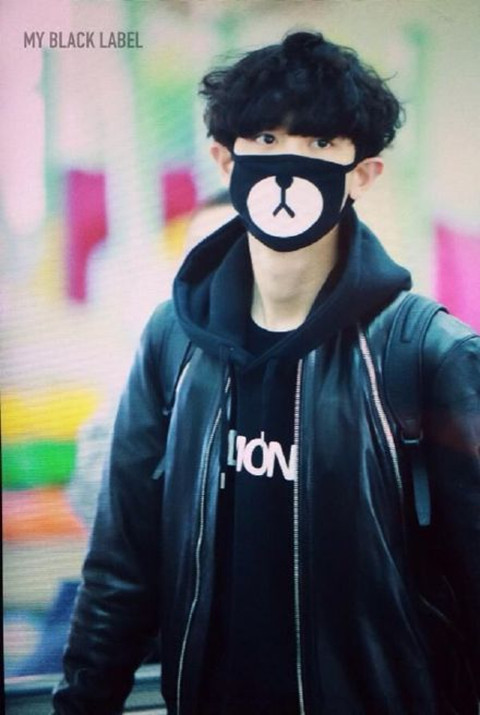face_mask: (234, 95, 353, 249)
